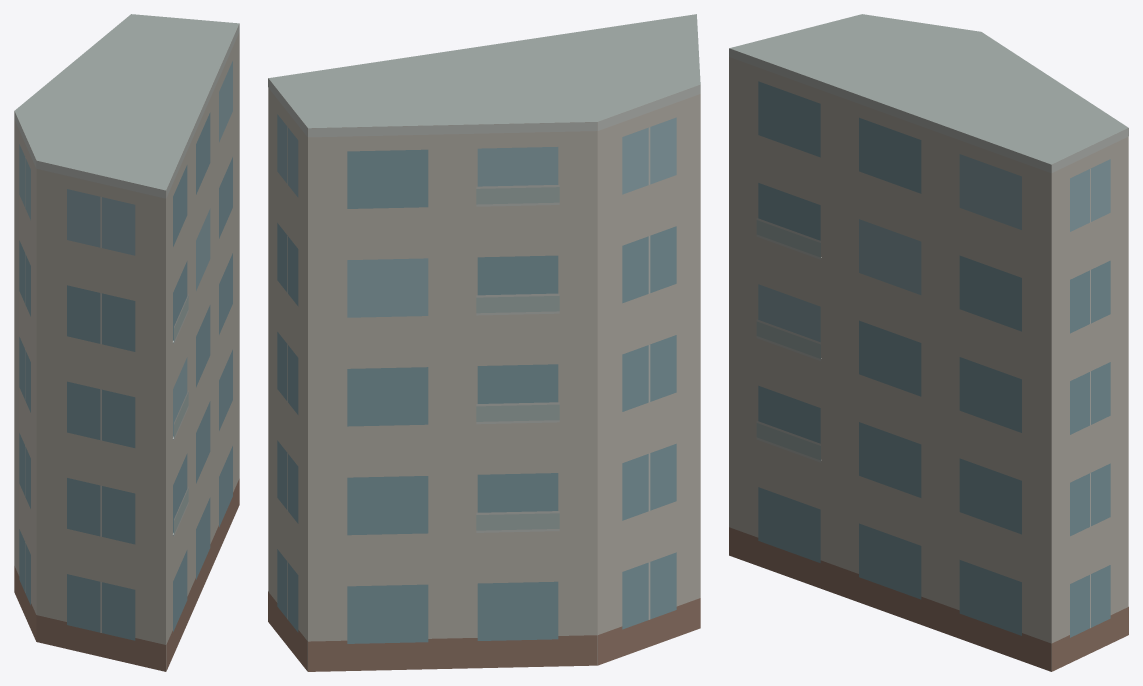
File: survey-upis-33007210.glb
3 views of the same model, side by side, from view 1: azimuth 30°, elevation 25°; view 2: azimuth 150°, elevation 25°; view 3: azimuth 270°, elevation 25° (orthographic). The views are drawn at different scales.
Parts seen in each view (by area): view 1: survey-upis-33007210.tmp; view 2: survey-upis-33007210.tmp; view 3: survey-upis-33007210.tmp.
Part boxes in pixels (box(x1,y1,x2,y2)): survey-upis-33007210.tmp: box(14, 14, 239, 671); survey-upis-33007210.tmp: box(268, 14, 700, 671); survey-upis-33007210.tmp: box(729, 14, 1128, 671).
Size of the model in its own units: 9.12 by 14.3 by 10.22.
